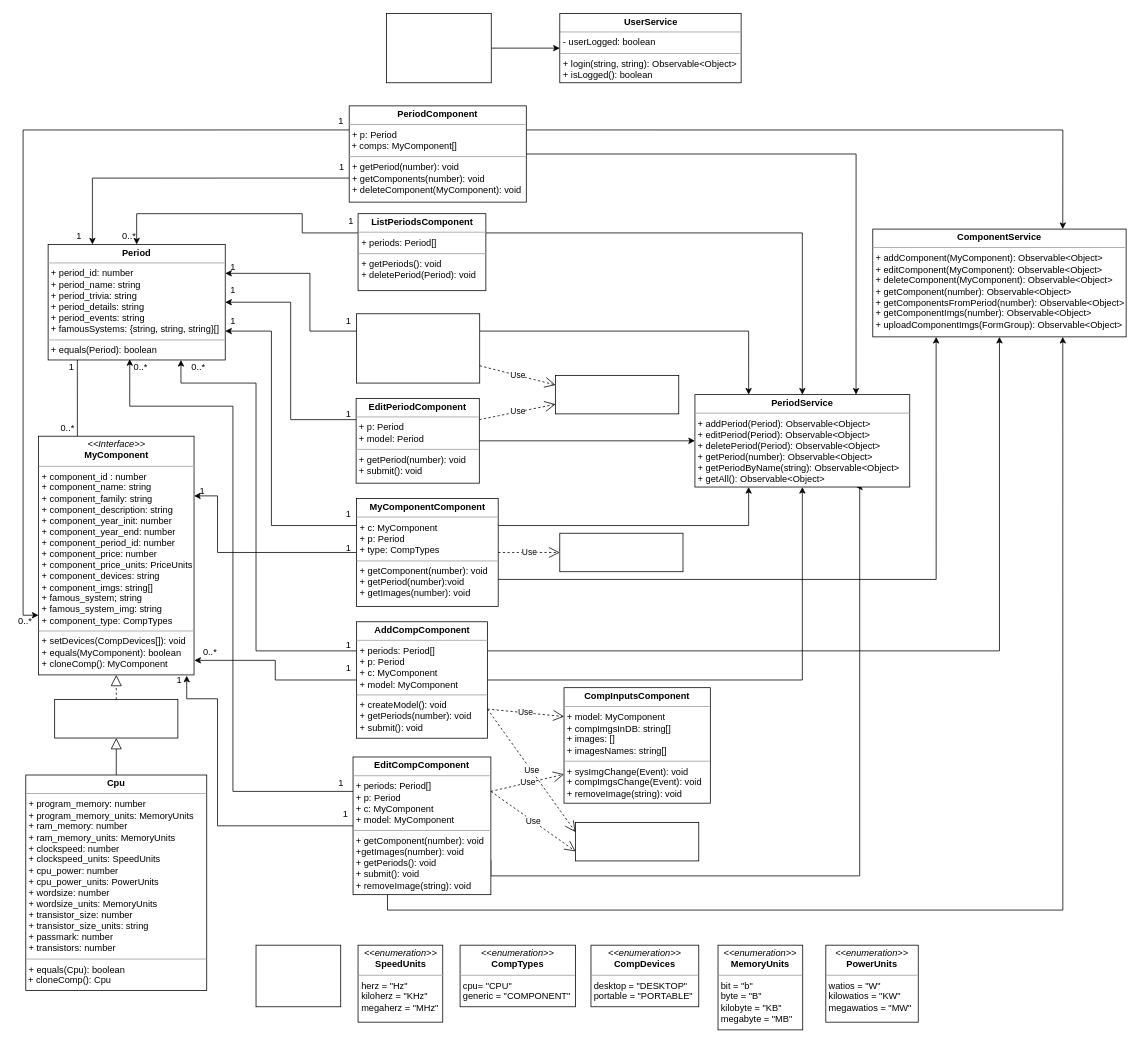
Image size: 1140x1043. Some labels were removed from this diagram. The centre of each missing label's shape, as x and y in pixels:
<<enumeration>> PriceUnits euro= "€ " dolar = "$": point 298,975
AddPeriodComponent + p: Period + model: Period + submit(): void: point 418,348
CpuTypeDetailsComponent + comp: Cpu: point 621,552
CpuTypeFormComponent + model: Cpu: point 637,841
GenericComp: point 116,718
LoginComponent + model: {string, string} + login(): void: point 438,48
PeriodInputsComponent + model: Period: point 617,394
